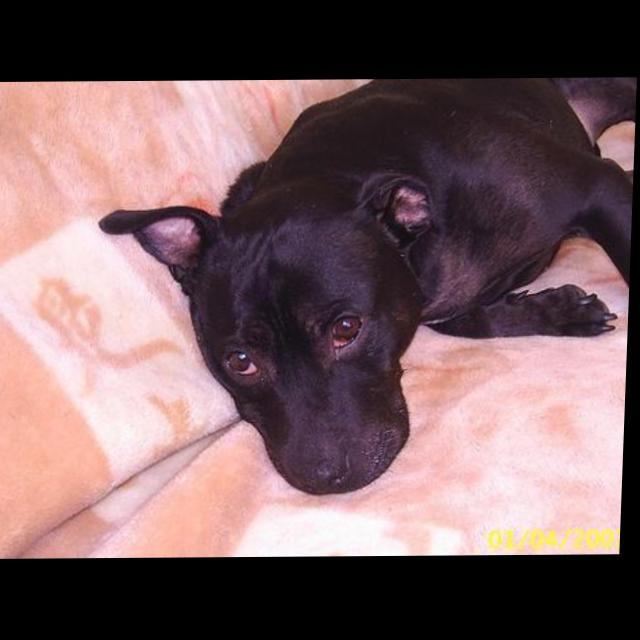staffford: (93, 79, 638, 499)
